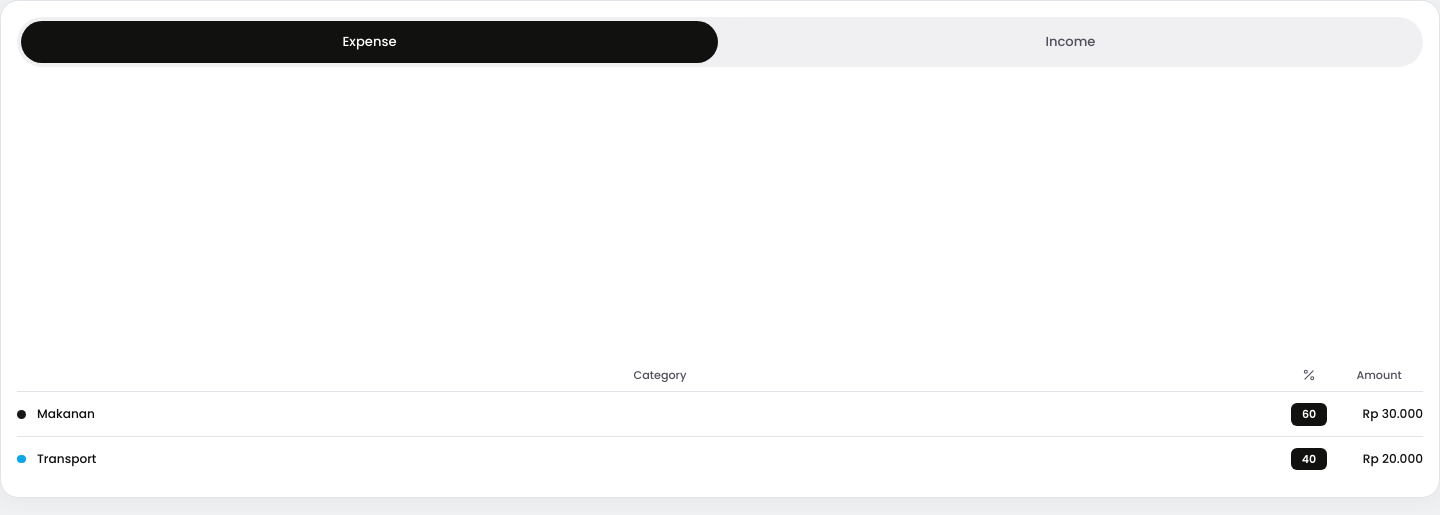
Test: category analysis › switches to income data in place without reloading
Click the button "Income": (1070, 42) x1=722 y1=21 x2=1419 y2=63
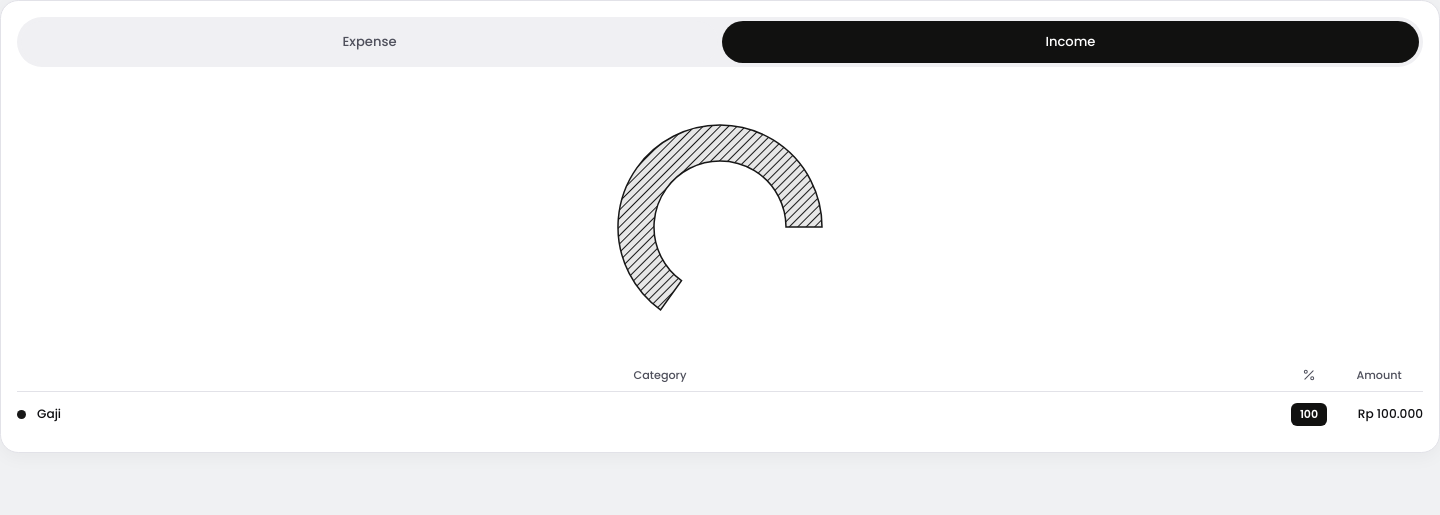
Result: the link "Gaji" is shown at x1=37 y1=405 x2=61 y2=422
Result: the element named "Income by Category" is shown
